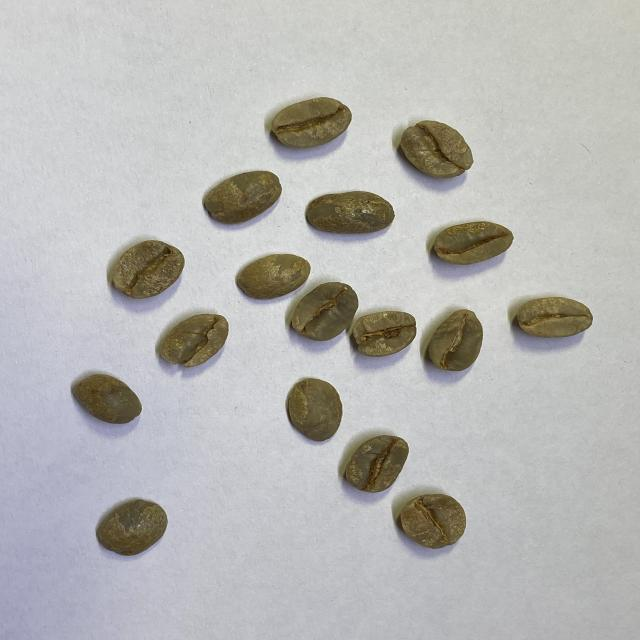bad: (157, 312, 230, 368), (351, 310, 417, 356)
good: (400, 119, 474, 179), (203, 170, 283, 225), (110, 240, 184, 299), (270, 96, 353, 148), (95, 498, 168, 556), (292, 282, 359, 340), (306, 190, 394, 234), (284, 378, 343, 442), (434, 221, 514, 267), (346, 435, 408, 494), (400, 493, 466, 548), (71, 374, 142, 424), (428, 308, 483, 371), (236, 253, 311, 299), (517, 296, 592, 338)
